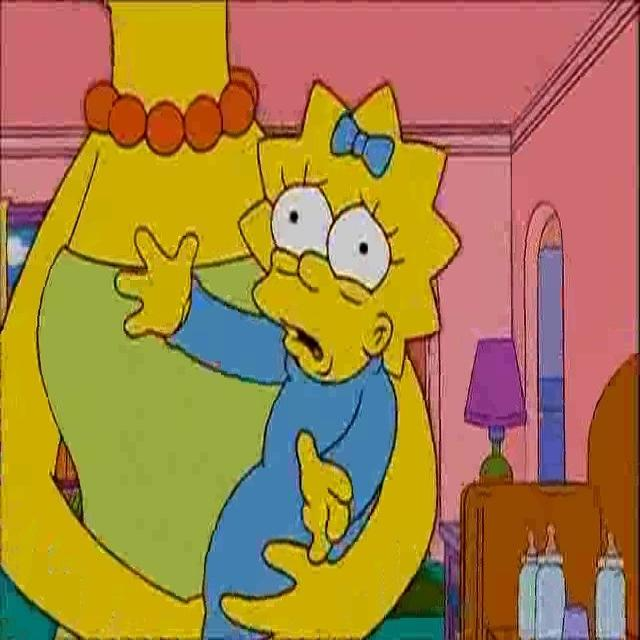Maggie Simpson: (238, 76, 462, 390)
